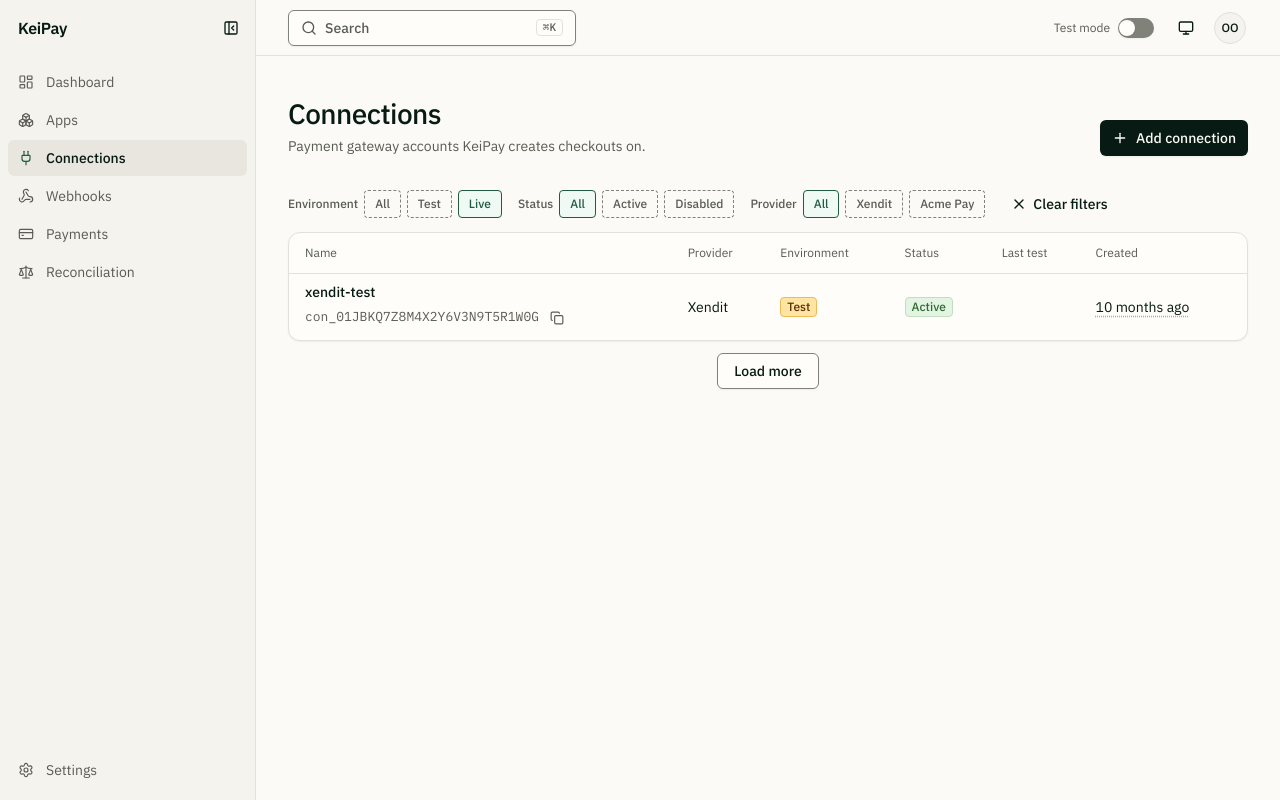
it: Connections page › loads the next page with Load more
What coordinates should you click on to do the following:
click the 1st button "All"
I would click on:
 (382, 204)
Its box is [364,190,401,218].
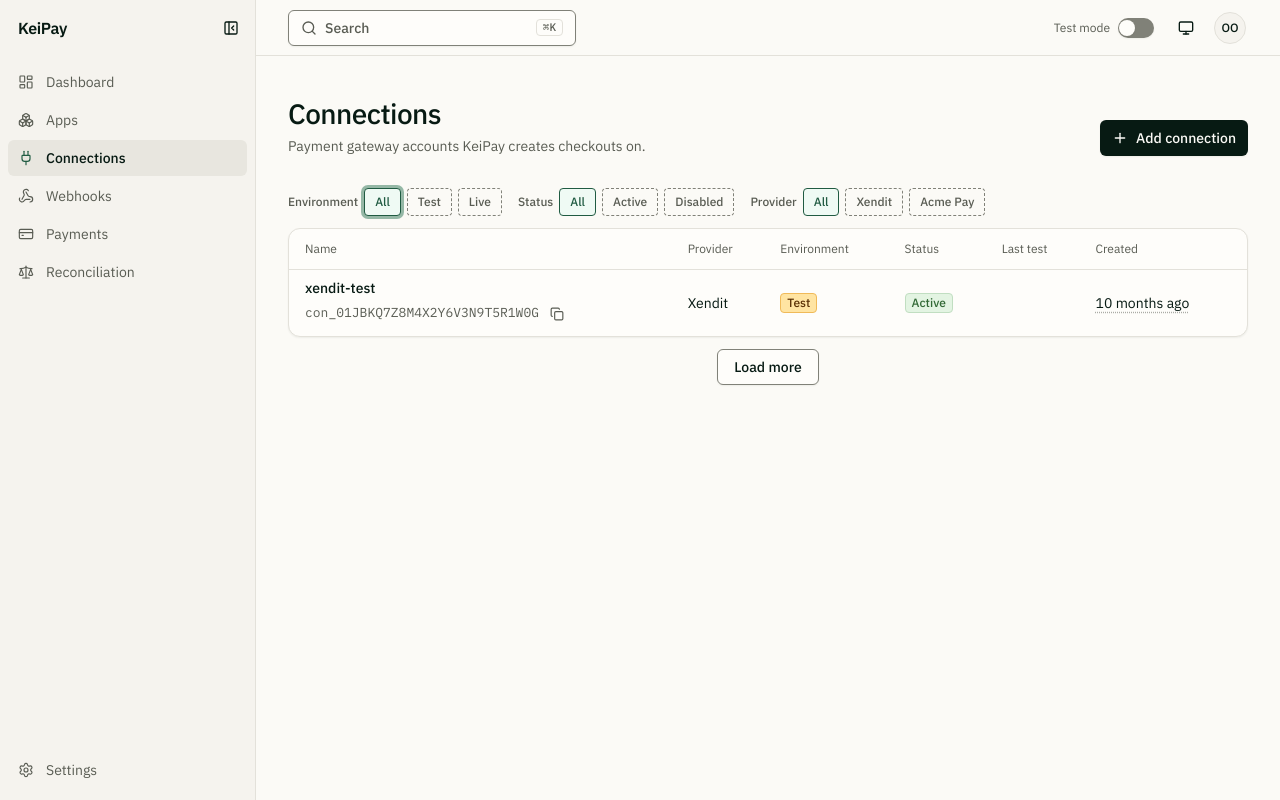
Expected: the link "xendit-test" is shown, [305,278,375,298]
What coordinates should you click on to do the following:
click the button "Load more"
I would click on:
 (768, 366)
Its box is [717,348,819,384].
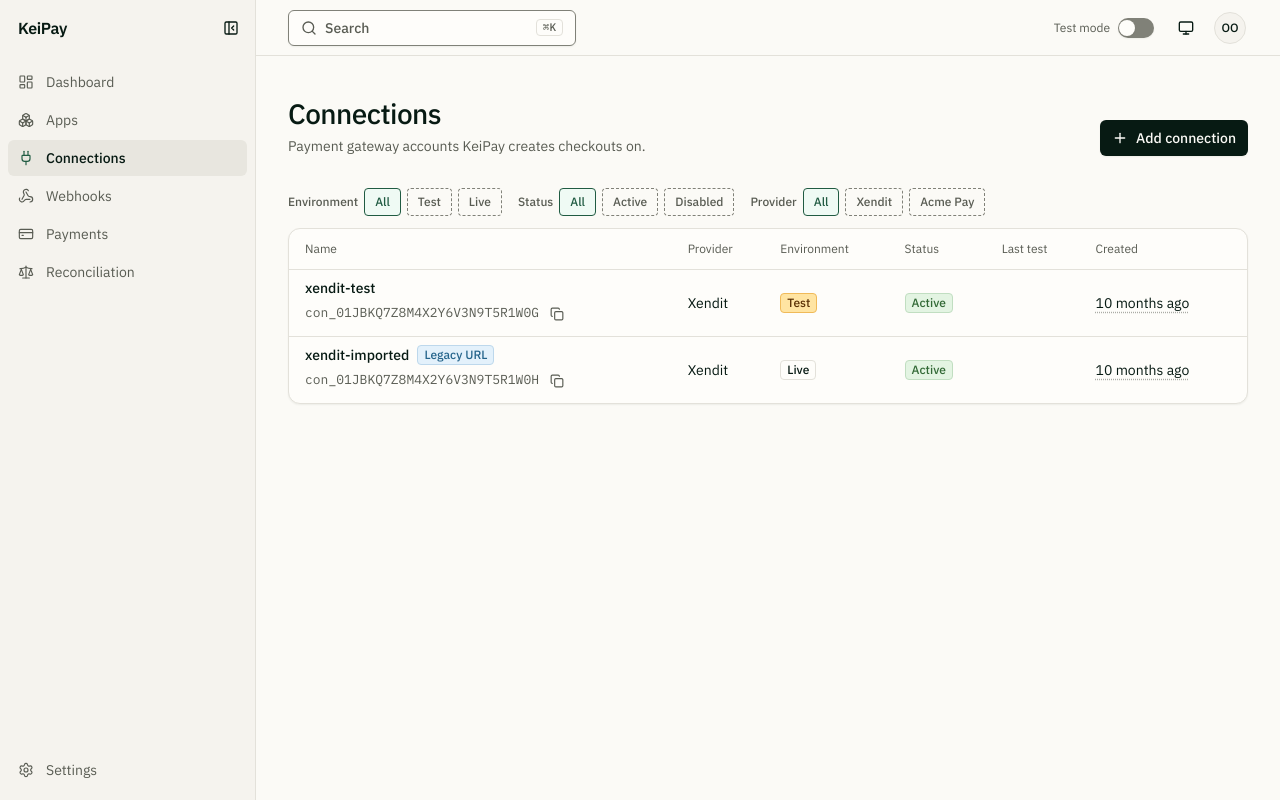
Expected: the link "xendit-imported" is shown, [305,344,409,364]
Expected: the button "Load more" is gone
